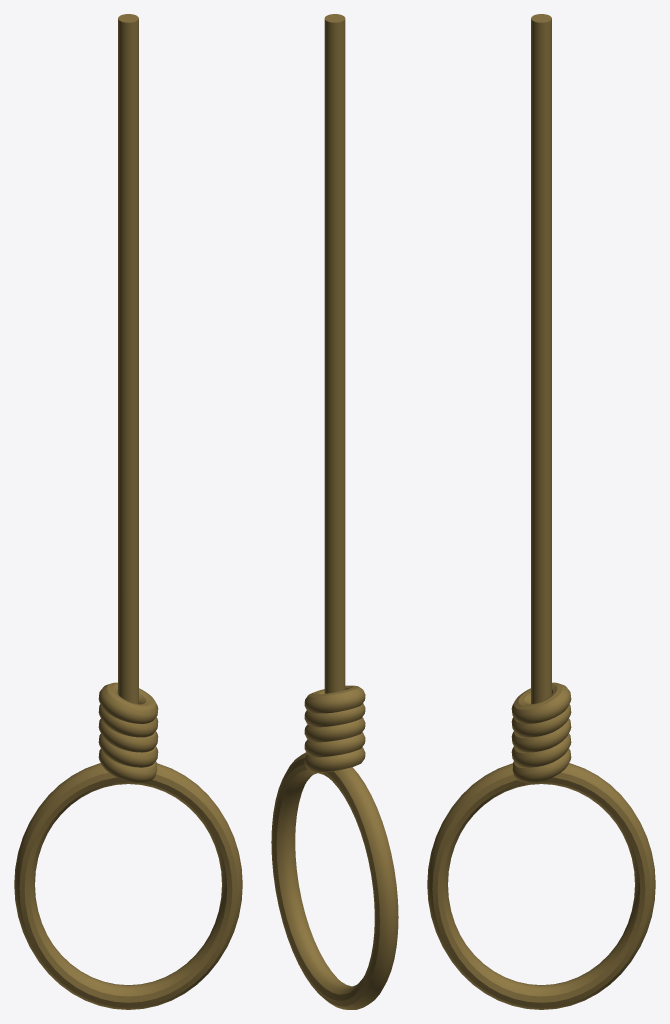
File: switzer_rope.fbx
3 views of the same model, side by side, from view 1: azimuth 90°, elevation 25°; view 2: azimuth 210°, elevation 25°; view 3: azimuth 270°, elevation 25° (orthographic).
Parts seen in each view (by area): view 1: Torus.008; view 2: Torus.008; view 3: Torus.008.
Boxes of the visible parts, bbox=[...] form: Torus.008: bbox=[14, 14, 242, 1009]; Torus.008: bbox=[271, 14, 398, 1009]; Torus.008: bbox=[427, 14, 655, 1009].
Bounding box in the file's own units: 30 × 526 × 110.
